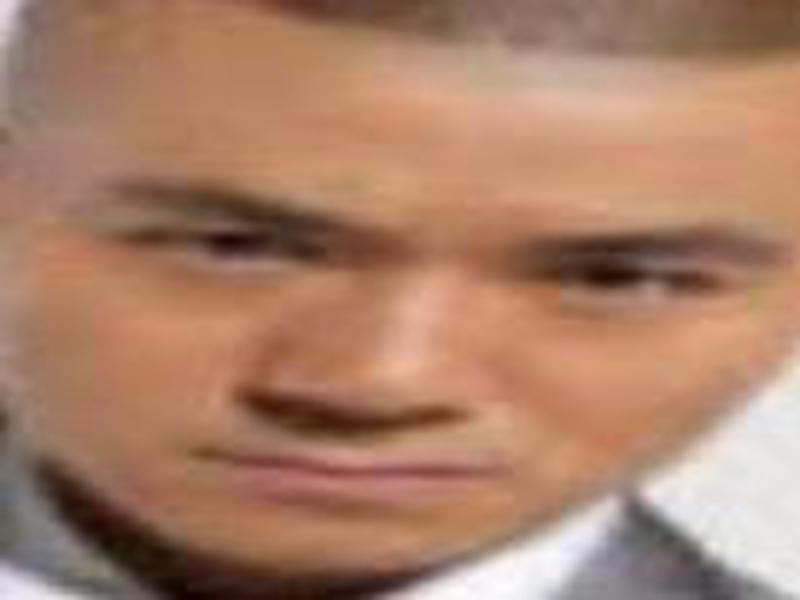without_mask: (10, 10, 800, 578)
